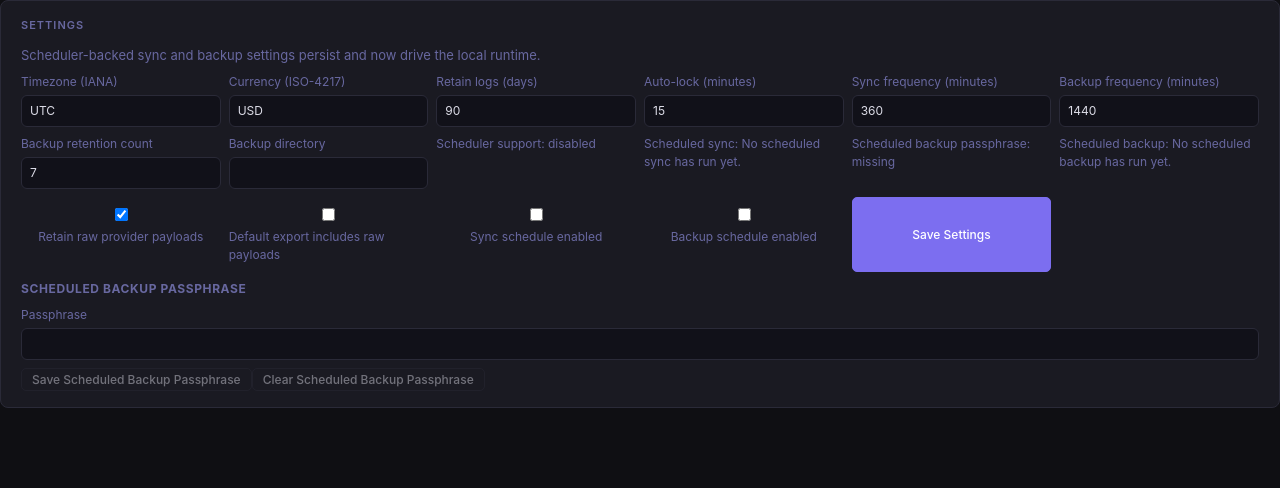
Scenario: SettingsPanel › stores and clears scheduled backup passphrase  REQ: ACC-BKP-005
The width and height of the screenshot is (1280, 488).
Expected: the label with test id "settings-backup-passphrase-status" shows "missing", [852, 154, 895, 169]
Type "scheduled-passphrase" into the password field with test id "settings-backup-passphrase-input" at (640, 344), box [21, 328, 1259, 360]
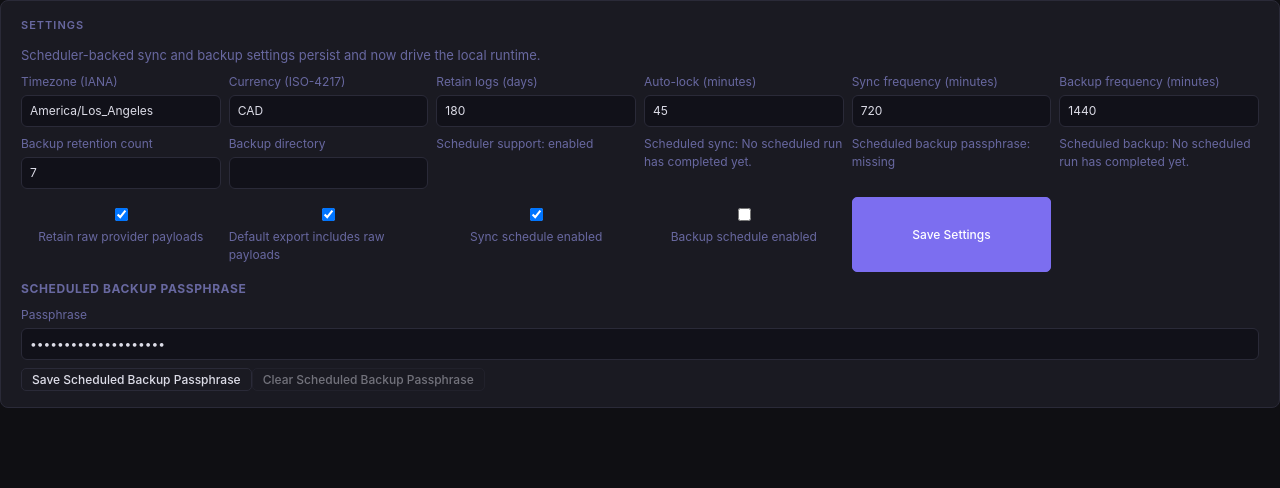
Click the button with test id "settings-backup-passphrase-save-btn" at (136, 380), box [21, 368, 252, 391]
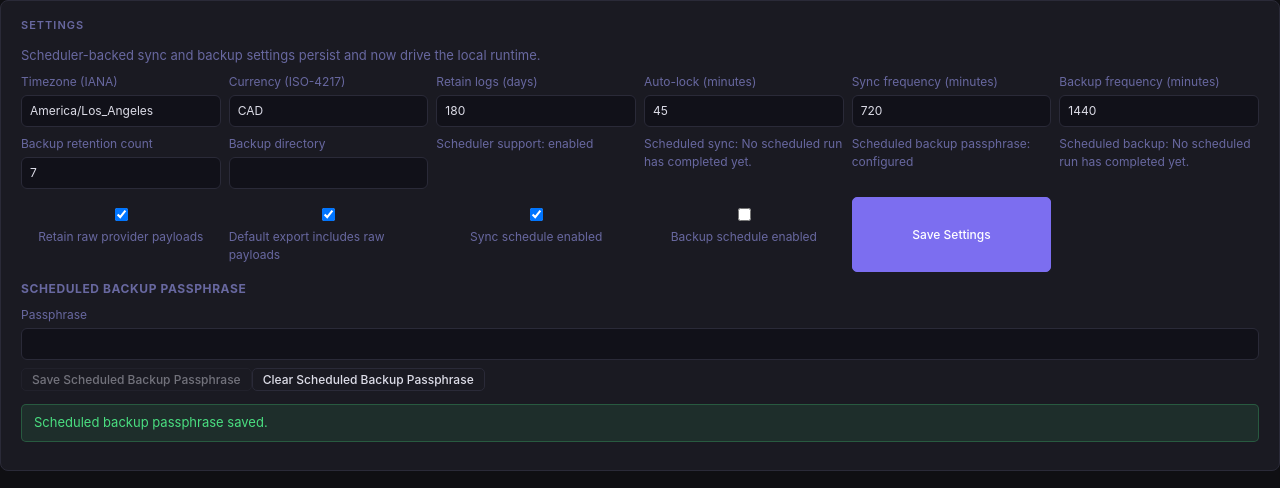
Now the text "Scheduled backup passphrase saved." is shown, box [21, 404, 1259, 442]
Click the button with test id "settings-backup-passphrase-clear-btn" at (368, 380), box [252, 368, 485, 391]
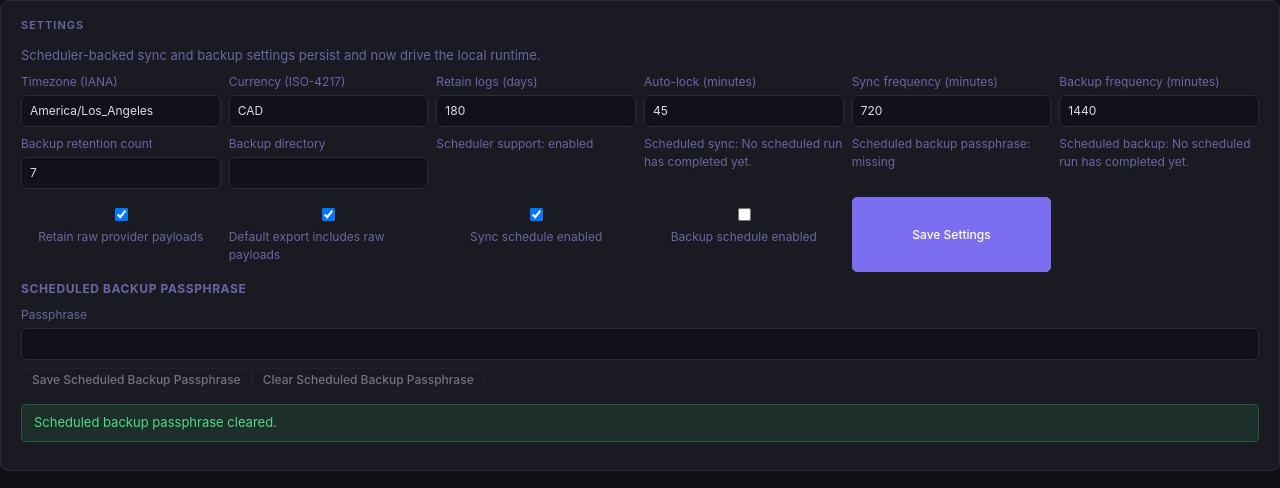
Now the text "Scheduled backup passphrase cleared." is shown, box [21, 404, 1259, 442]
